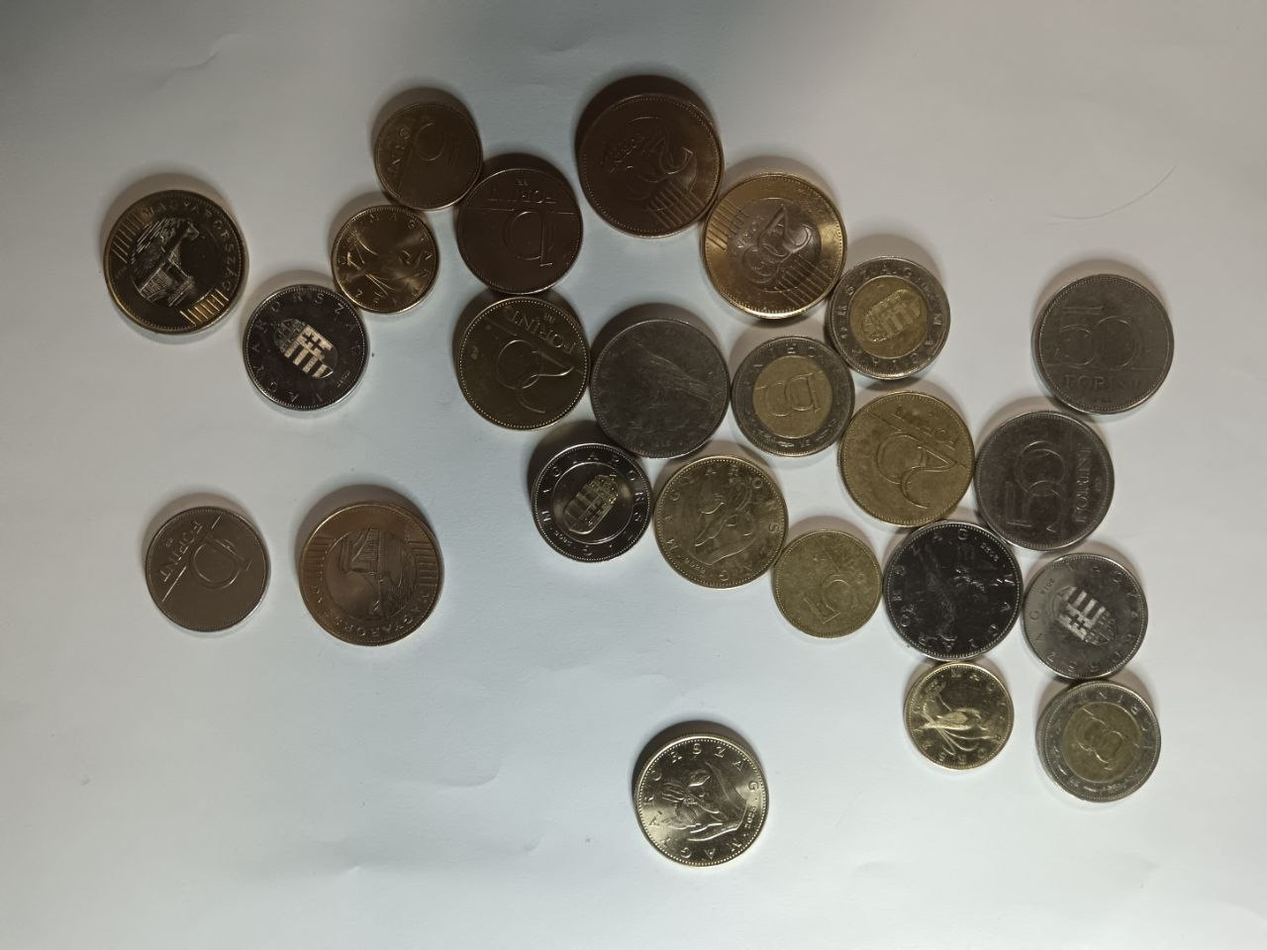100ft: (1042, 682, 1164, 803), (832, 257, 950, 382), (535, 442, 652, 562), (733, 338, 848, 452)
10ft: (147, 508, 271, 634), (1025, 555, 1147, 677), (457, 171, 582, 290), (250, 285, 366, 407)
200ft: (579, 92, 723, 239), (710, 173, 845, 322), (108, 189, 245, 333), (303, 505, 440, 642)
20ft: (633, 732, 766, 865), (841, 392, 975, 523), (460, 297, 591, 428), (655, 457, 788, 586)
50ft: (978, 412, 1113, 550), (1038, 277, 1175, 411), (888, 521, 1021, 659), (593, 322, 731, 454)
5ft: (777, 529, 883, 636), (378, 103, 482, 208), (338, 208, 439, 315), (910, 664, 1012, 766)
